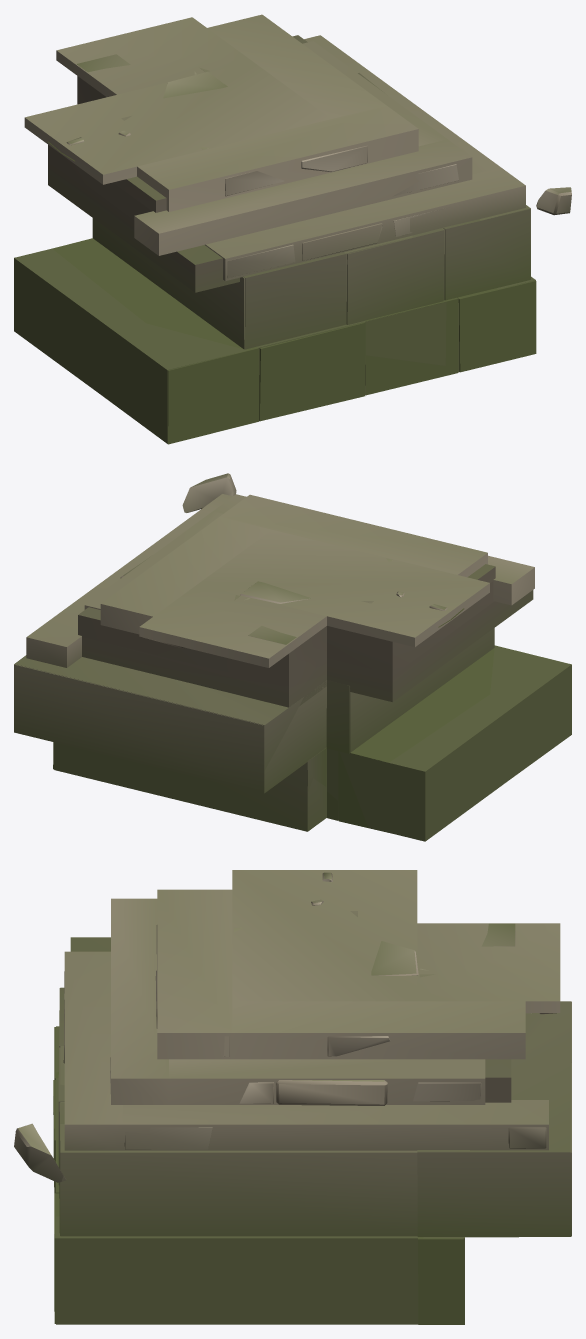
The model's file is podium_corner.glb.
The picture shows the model from 3 angles, top to bottom: view 1: azimuth 30°, elevation 25°; view 2: azimuth 150°, elevation 25°; view 3: azimuth 270°, elevation 25°; orthographic projection. The views are drawn at different scales.
Parts seen in each view (by area): view 1: podium_corner_far, podium_corner; view 2: podium_corner_far, podium_corner; view 3: podium_corner_far, podium_corner.
Boxes of the visible parts, x1,y1,x2,y2 form: podium_corner_far: (14, 14, 535, 443); podium_corner: (48, 35, 571, 444); podium_corner_far: (14, 494, 571, 841); podium_corner: (14, 473, 571, 831); podium_corner_far: (56, 870, 571, 1324); podium_corner: (14, 872, 571, 1324).
Size of the model in its own units: 19.04 by 9.62 by 19.31.
